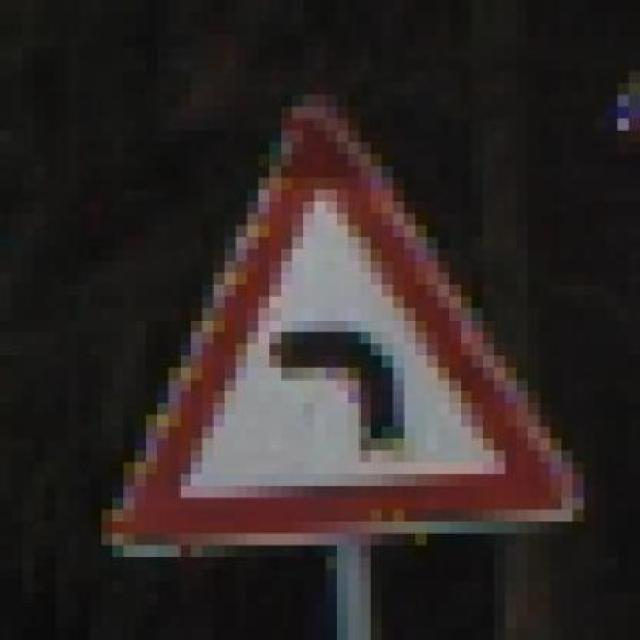Dangerous Left Curve Ahead: (90, 83, 584, 569)
